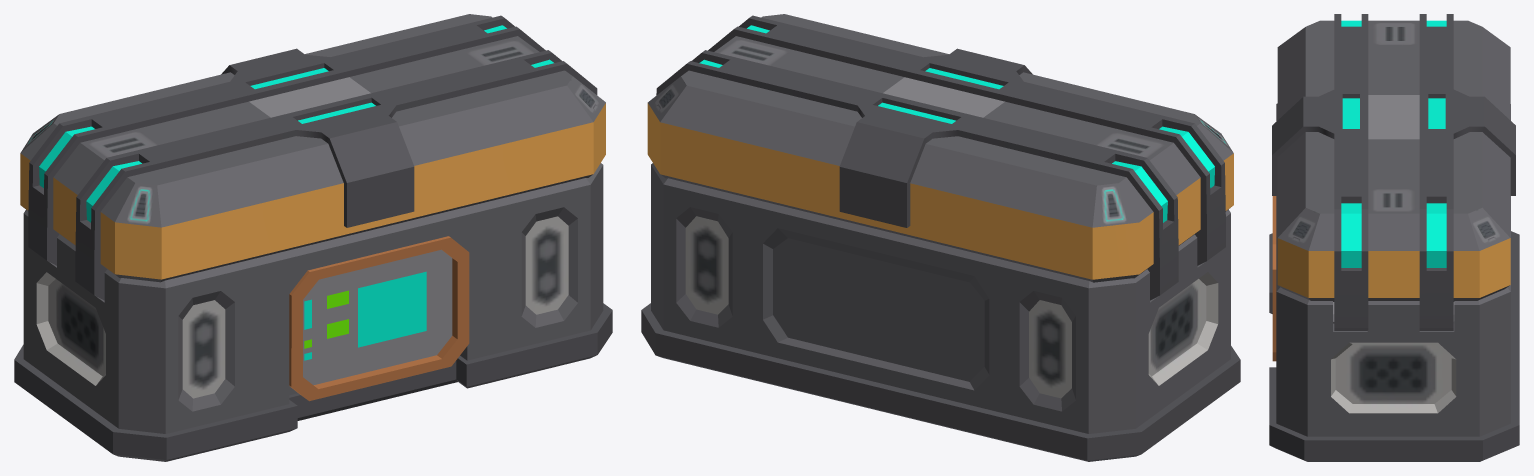
The model's file is worlds_SM_Prop_Satellite_08.gltf.
3 renders of one model, left to right at view 1: azimuth 30°, elevation 25°; view 2: azimuth 150°, elevation 25°; view 3: azimuth 270°, elevation 25°, orthographic. The views are drawn at different scales.
Parts seen in each view (by area): view 1: SM_Prop_Satellite_08; view 2: SM_Prop_Satellite_08; view 3: SM_Prop_Satellite_08.
Boxes of the visible parts, left/top/right/bottom form: SM_Prop_Satellite_08: left=14, top=14, right=612, bottom=461; SM_Prop_Satellite_08: left=641, top=14, right=1240, bottom=461; SM_Prop_Satellite_08: left=1269, top=14, right=1519, bottom=461.
Size of the model in its own units: 2.45 by 1.25 by 1.17.
Materials: 1 (1 with a texture image).
